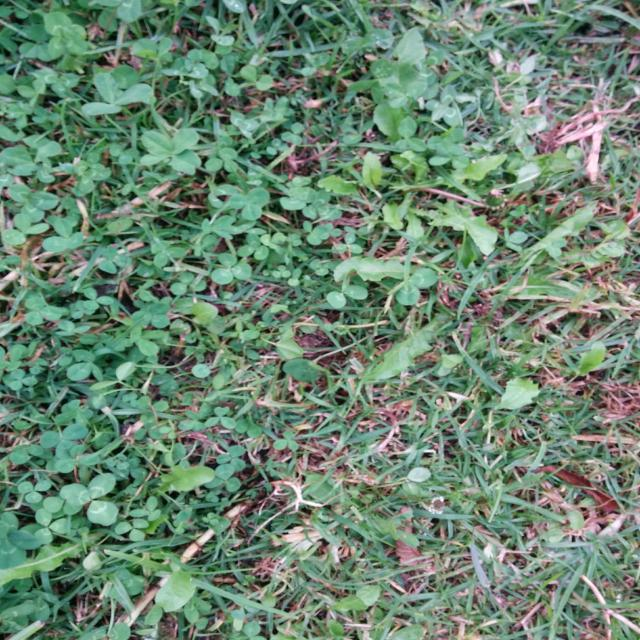Four Leaf Clover: (139, 129, 201, 174)
